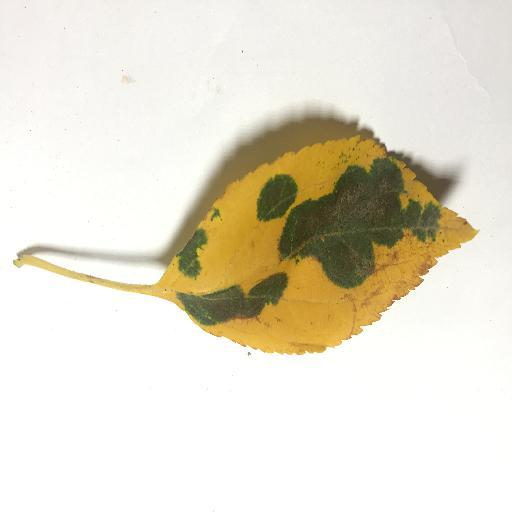Brown_Spot: (289, 176, 412, 225), (192, 287, 271, 318)
